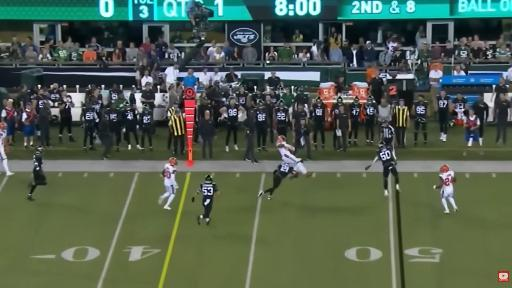Helmet: (440, 165, 449, 173), (277, 136, 286, 144), (366, 95, 374, 103), (169, 158, 177, 166), (278, 99, 285, 107), (378, 141, 386, 148), (336, 96, 343, 104), (315, 96, 322, 104), (205, 175, 212, 182), (36, 146, 43, 153), (143, 104, 149, 111), (354, 97, 359, 104), (0, 123, 5, 129)
Jersey: (278, 143, 299, 166), (200, 182, 218, 205), (377, 147, 395, 167), (440, 171, 454, 196), (164, 164, 177, 187), (82, 107, 97, 126), (274, 107, 289, 126), (312, 103, 326, 123), (59, 96, 72, 117), (275, 163, 293, 178), (122, 108, 137, 126), (226, 104, 239, 123), (138, 111, 153, 127), (414, 101, 428, 118), (255, 108, 268, 126), (48, 89, 61, 107), (235, 91, 249, 106), (452, 97, 467, 111), (437, 96, 450, 112), (349, 102, 361, 119), (35, 95, 46, 113), (364, 103, 377, 118), (107, 108, 120, 122), (110, 89, 122, 102), (34, 152, 42, 171), (331, 103, 340, 119), (93, 100, 102, 115), (0, 130, 6, 146)
Player: (365, 142, 399, 195), (276, 136, 310, 177), (220, 98, 245, 151), (258, 163, 294, 199), (196, 175, 220, 225), (434, 165, 458, 213), (27, 146, 46, 200), (159, 158, 178, 209), (80, 102, 98, 151), (122, 103, 141, 149), (412, 95, 429, 146), (311, 97, 326, 149), (254, 100, 269, 151), (363, 96, 378, 145), (330, 96, 343, 150), (436, 91, 450, 141), (0, 123, 13, 175), (139, 104, 153, 151), (348, 97, 361, 146), (274, 99, 289, 136), (451, 94, 468, 125)
